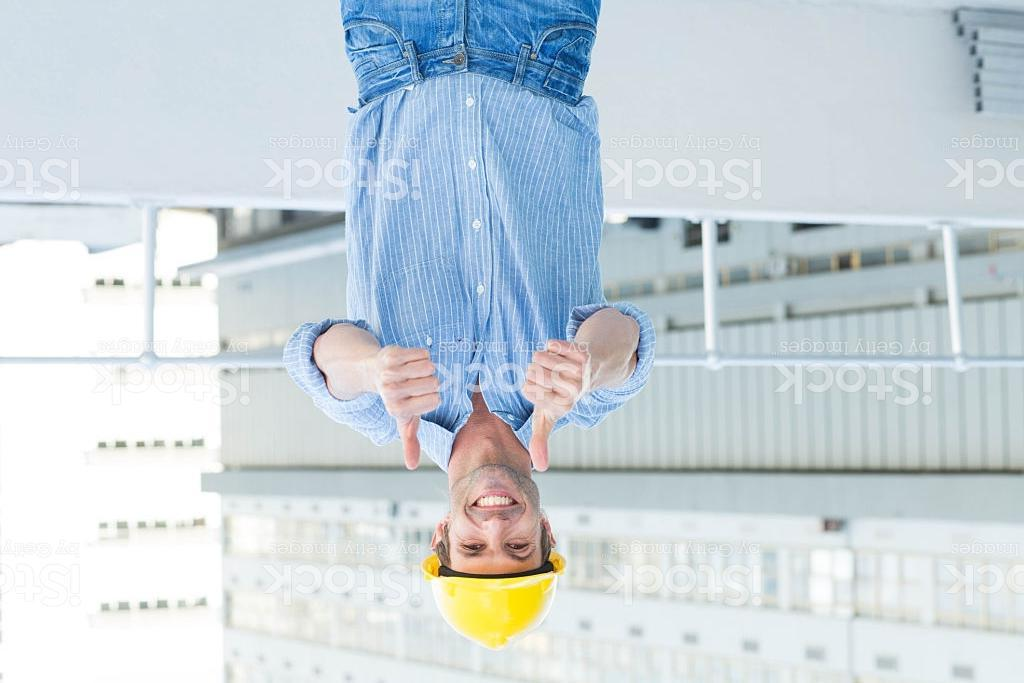thumbsdown: (521, 338, 591, 472), (376, 343, 445, 470)
